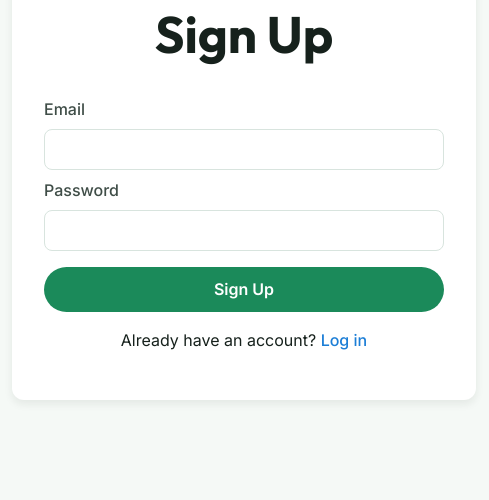
SignupPage › shows an error message on failed signup
The image size is (489, 500).
In the field labelled "Email": (244, 150) [44,129,444,170], type "hiker@example.com"
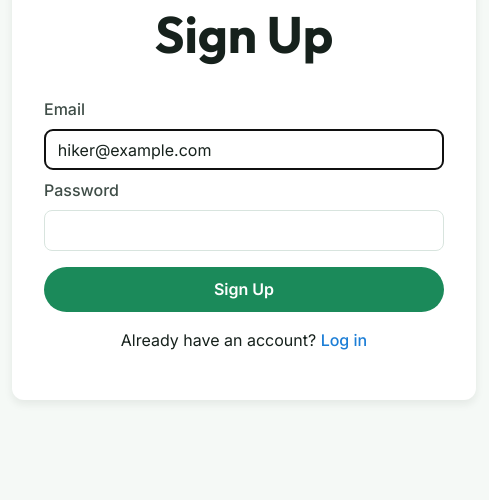
In the password field labelled "Password": (244, 231) [44,210,444,251], type "hunter2"
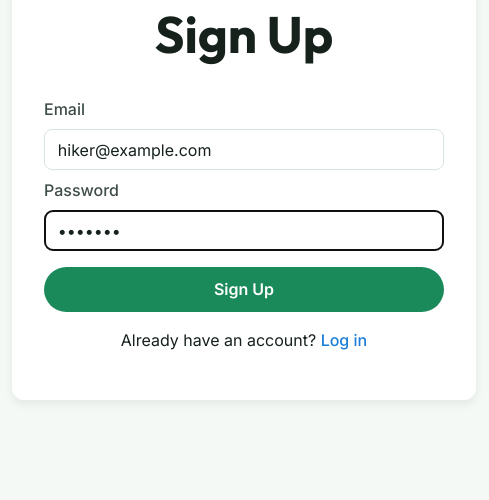
Click the button "Sign Up": (244, 290) [44,267,444,312]
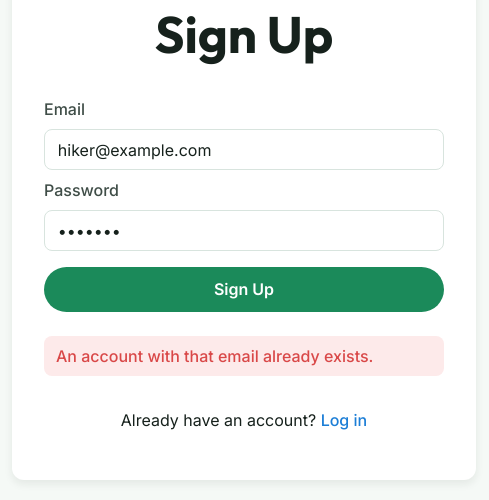
Result: the text "An account with that email already exists." is shown at [44,336,444,376]
